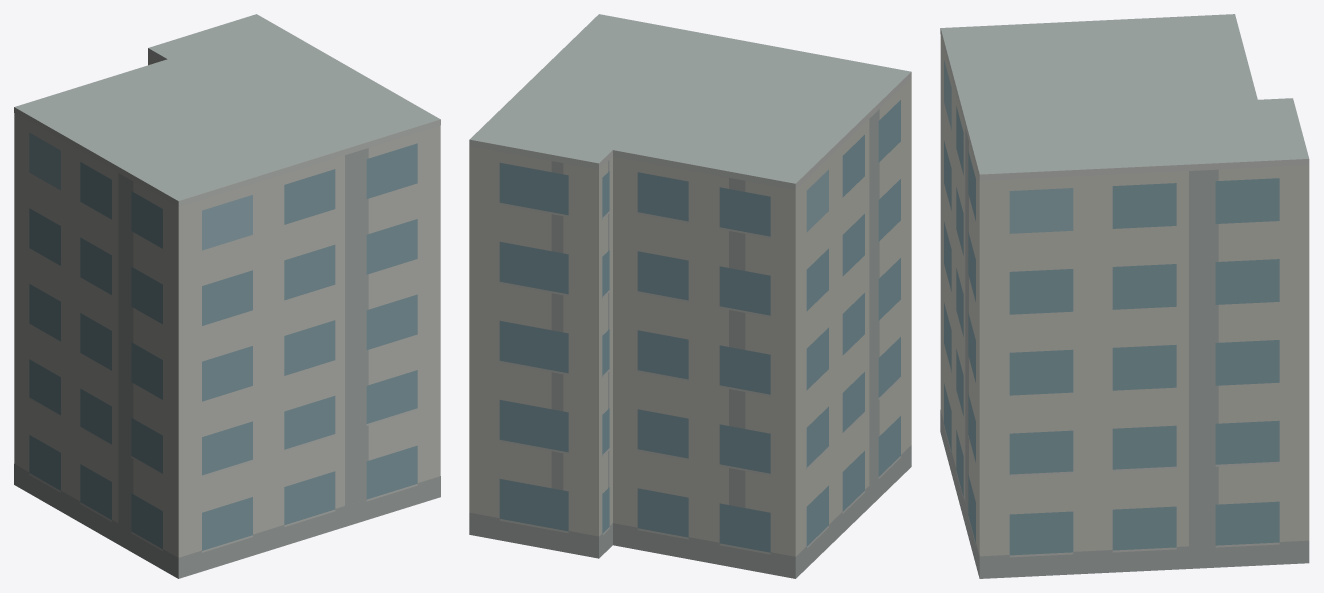
File: residential-714e65c2-9bf9-4c7d-82da-be678a1bb4f4.glb
3 renders of one model, left to right at view 1: azimuth 30°, elevation 25°; view 2: azimuth 150°, elevation 25°; view 3: azimuth 270°, elevation 25°, orthographic. The views are drawn at different scales.
Visible parts, largest first — view 1: residential-714e65c2-9bf9-4c7d-82da-be678a1bb4f4.tmp; view 2: residential-714e65c2-9bf9-4c7d-82da-be678a1bb4f4.tmp; view 3: residential-714e65c2-9bf9-4c7d-82da-be678a1bb4f4.tmp.
Boxes of the visible parts, bbox=[...] form: residential-714e65c2-9bf9-4c7d-82da-be678a1bb4f4.tmp: bbox=[14, 14, 440, 578]; residential-714e65c2-9bf9-4c7d-82da-be678a1bb4f4.tmp: bbox=[469, 14, 911, 578]; residential-714e65c2-9bf9-4c7d-82da-be678a1bb4f4.tmp: bbox=[940, 14, 1309, 578].
Size of the model in its own units: 12.99 by 15.25 by 12.61.
